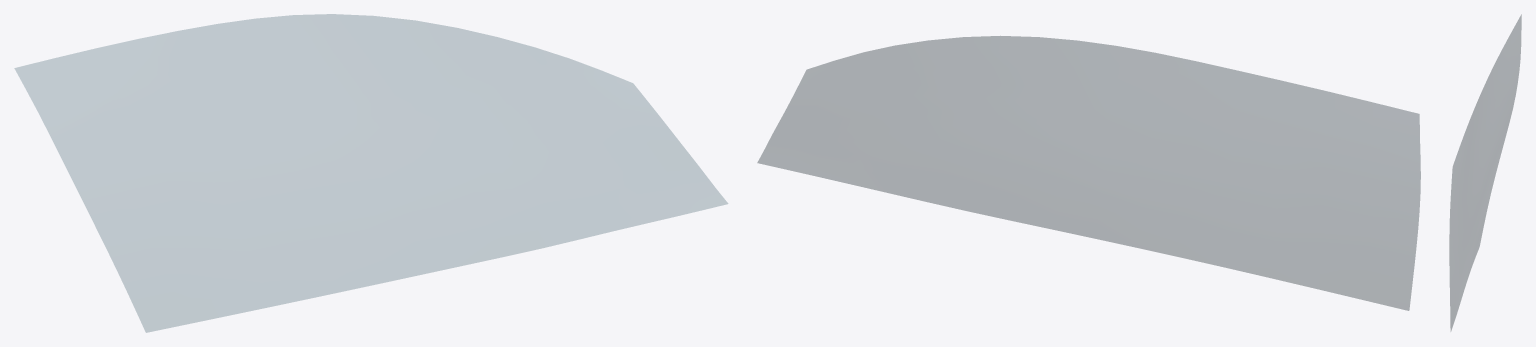
The picture shows the model from 3 angles, left to right: view 1: azimuth 30°, elevation 25°; view 2: azimuth 150°, elevation 25°; view 3: azimuth 270°, elevation 25°; orthographic projection. The views are drawn at different scales.
Parts seen in each view (by area): view 1: SM_DodgeCharger_Door_FR_Glass_Int2; view 2: SM_DodgeCharger_Door_FR_Glass_Int2; view 3: SM_DodgeCharger_Door_FR_Glass_Int2.
Part boxes in pixels (bbox=[...]): SM_DodgeCharger_Door_FR_Glass_Int2: bbox=[14, 14, 727, 332]; SM_DodgeCharger_Door_FR_Glass_Int2: bbox=[757, 36, 1420, 310]; SM_DodgeCharger_Door_FR_Glass_Int2: bbox=[1449, 14, 1521, 330].
Size of the model in its own units: 0.9339 by 0.3408 by 0.1591.
